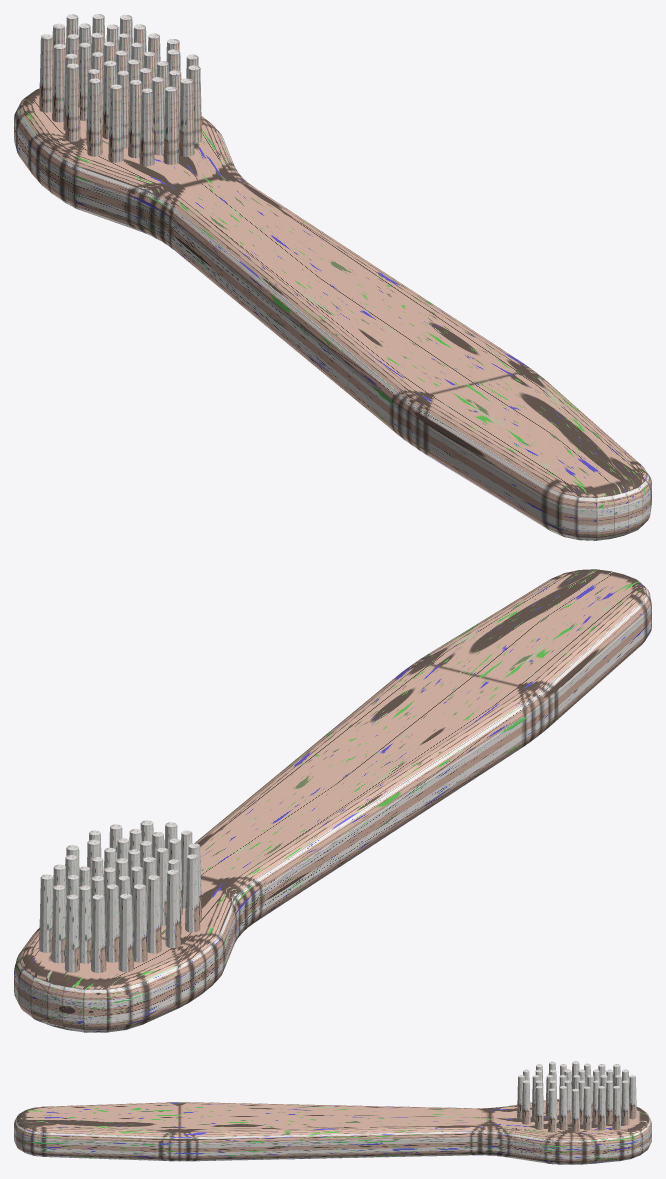
File: Toothbrush_WOOD.fbx
The picture shows the model from 3 angles, top to bottom: view 1: azimuth 30°, elevation 25°; view 2: azimuth 150°, elevation 25°; view 3: azimuth 270°, elevation 25°; orthographic projection. The views are drawn at different scales.
Visible parts, largest first — view 1: Cube; view 2: Cube; view 3: Cube.
Boxes of the visible parts, <box> form: Cube: <box>14,14,651,540</box>; Cube: <box>14,569,651,1032</box>; Cube: <box>14,1061,651,1164</box>.
Size of the model in its own units: 201 by 152 by 1257.
Materials: 1 (1 with a texture image).
